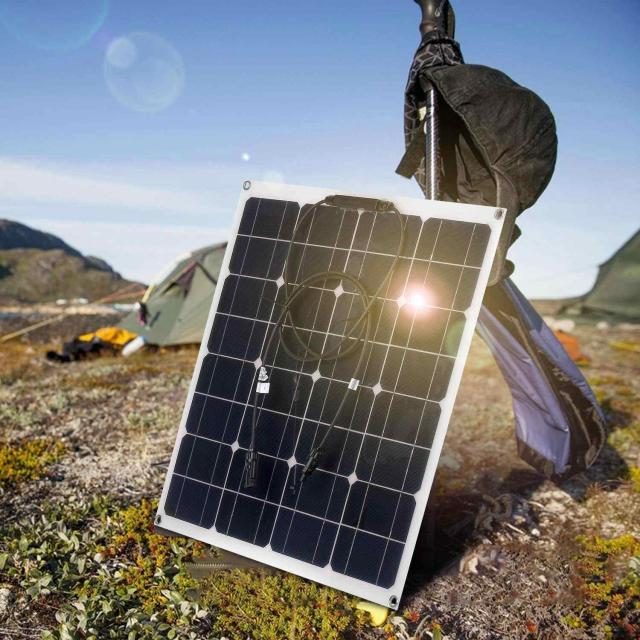clean-solar-panel: (155, 181, 506, 609)
